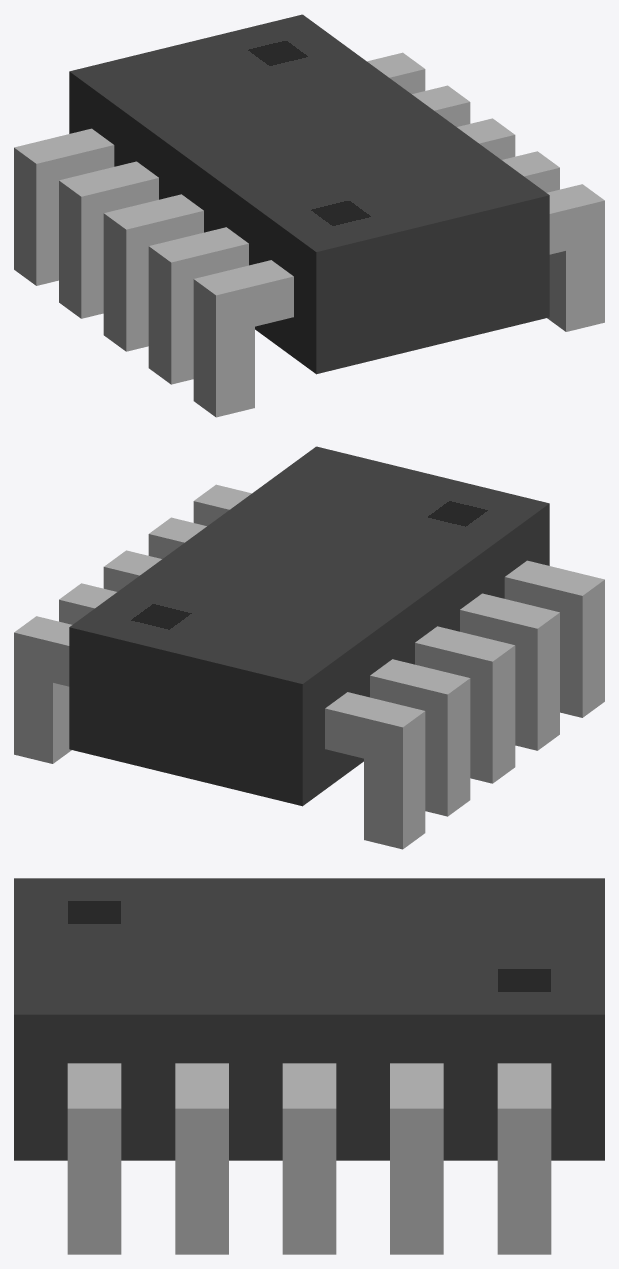
The model's file is chip.dae.
3 views of the same model, one above another, from view 1: azimuth 30°, elevation 25°; view 2: azimuth 150°, elevation 25°; view 3: azimuth 270°, elevation 25° (orthographic). The views are drawn at different scales.
Visible parts, largest first — view 1: chip; view 2: chip; view 3: chip.
Boxes of the visible parts, bbox=[...] form: chip: bbox=[14, 14, 604, 417]; chip: bbox=[14, 446, 604, 849]; chip: bbox=[14, 878, 604, 1254].
Size of the model in its own units: 1 by 1.1 by 0.4.
Materials: 1 (1 with a texture image).
